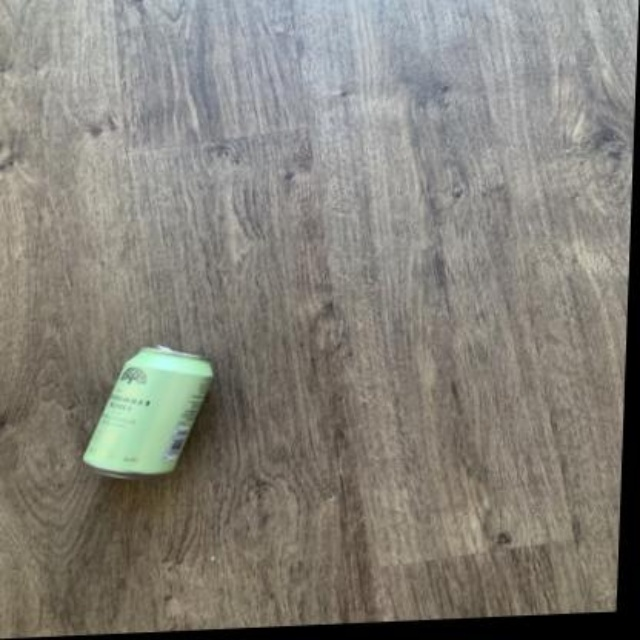trash: (83, 346, 212, 475)
